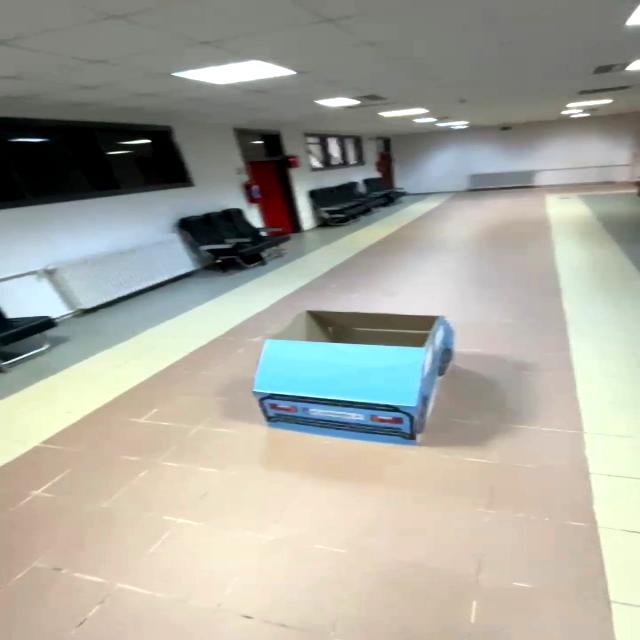blue_car: (213, 300, 501, 479)
